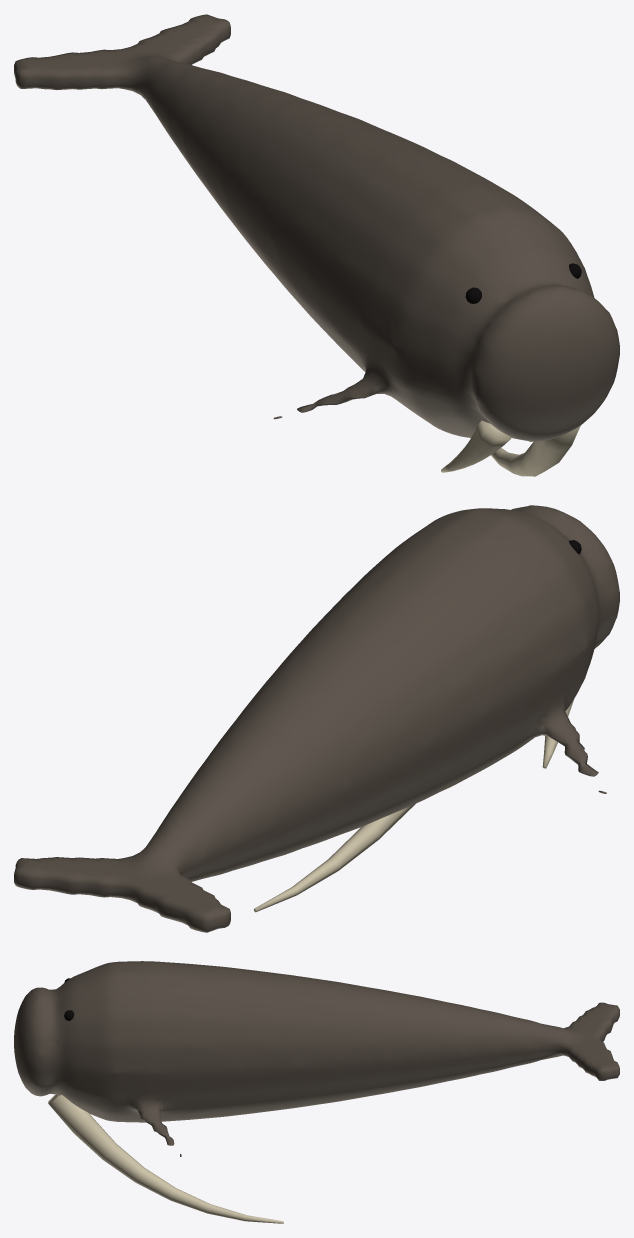
The model's file is OdobenocetopsPeruvianus.fbx.
3 renders of one model, top to bottom at view 1: azimuth 30°, elevation 25°; view 2: azimuth 150°, elevation 25°; view 3: azimuth 270°, elevation 25°, orthographic. The views are drawn at different scales.
Visible parts, largest first — view 1: OdobenocetopsPeruvianus; view 2: OdobenocetopsPeruvianus; view 3: OdobenocetopsPeruvianus.
Boxes of the visible parts, <box> form: OdobenocetopsPeruvianus: <box>14,14,619,476</box>; OdobenocetopsPeruvianus: <box>14,505,619,932</box>; OdobenocetopsPeruvianus: <box>14,961,619,1223</box>.
Bounding box in the file's own units: 0.7569 × 0.7275 × 1.8.
